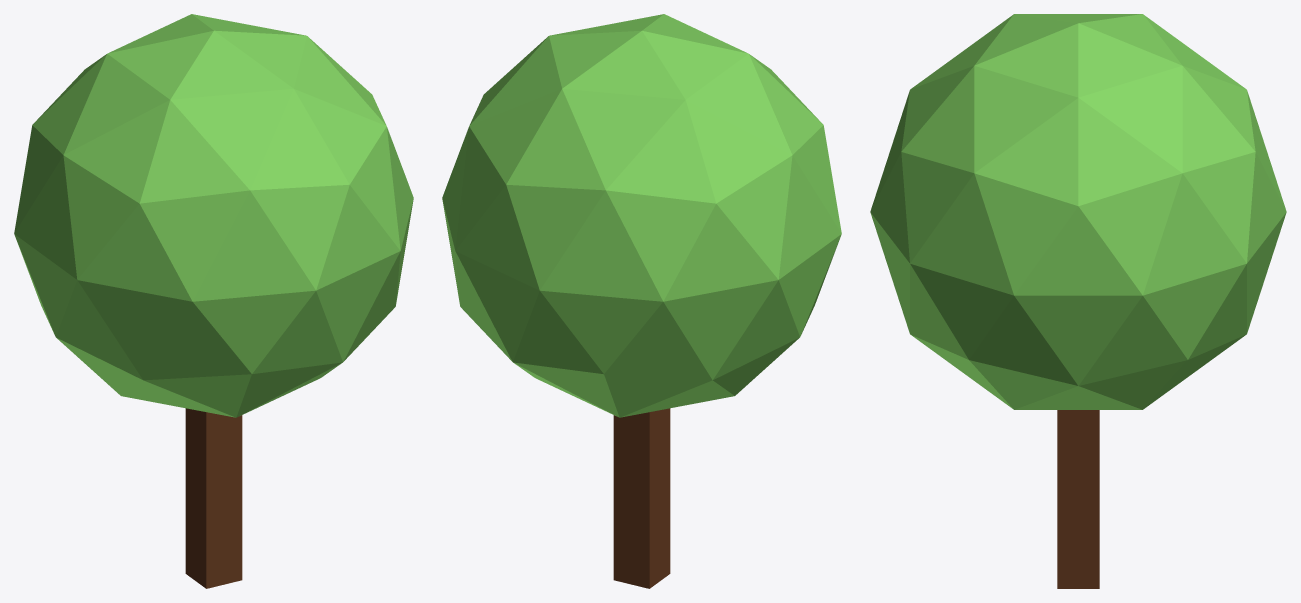
File: Tree.fbx
3 renders of one model, left to right at view 1: azimuth 30°, elevation 25°; view 2: azimuth 150°, elevation 25°; view 3: azimuth 270°, elevation 25°, orthographic.
Parts seen in each view (by area): view 1: Tree; view 2: Tree; view 3: Tree.
Boxes of the visible parts, x1,y1,x2,y2 form: Tree: (14,14,413,588); Tree: (442,14,841,588); Tree: (870,14,1286,588).
Size of the model in its own units: 452 by 701 by 475.
